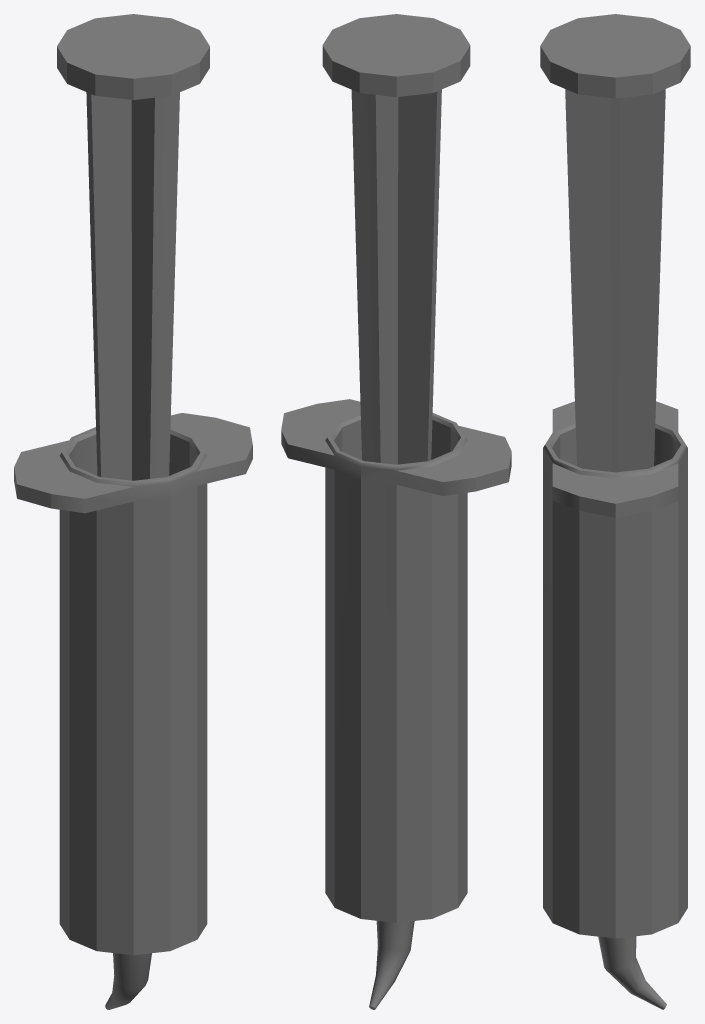
File: Syringe_Model.fbx
3 views of the same model, side by side, from view 1: azimuth 30°, elevation 25°; view 2: azimuth 150°, elevation 25°; view 3: azimuth 270°, elevation 25° (orthographic). The views are drawn at different scales.
Visible parts, largest first — view 1: pCylinder13, pCube5; view 2: pCylinder13, pCube5; view 3: pCylinder13, pCube5.
Boxes of the visible parts, bbox=[...] form: pCylinder13: bbox=[14, 413, 252, 1009]; pCube5: bbox=[57, 14, 209, 480]; pCylinder13: bbox=[281, 399, 511, 1009]; pCube5: bbox=[322, 14, 470, 464]; pCylinder13: bbox=[543, 401, 687, 1009]; pCube5: bbox=[540, 14, 690, 472].
Bounding box in the file's own units: 3.64 × 14.67 × 2.08.
